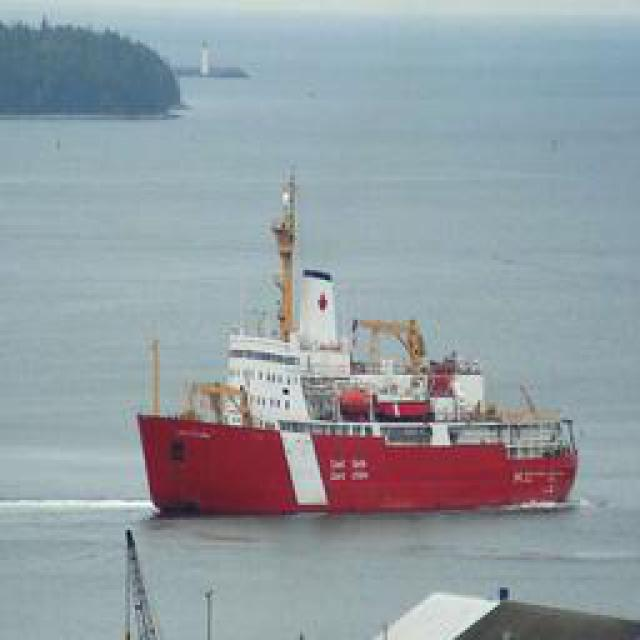Ship: (131, 204, 584, 514)
